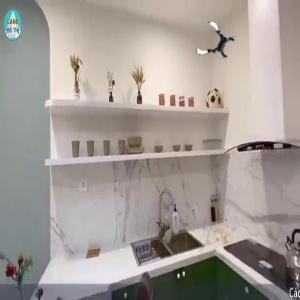drone: (198, 25, 236, 63)
